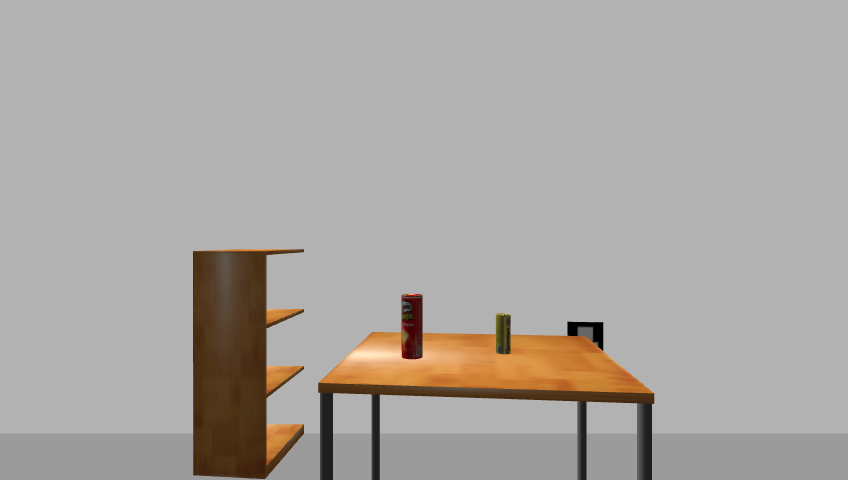aruco marker: (563, 320, 608, 354)
biscuits pack: (494, 312, 512, 356)
bookshelf: (188, 246, 311, 480)
dinner table: (313, 331, 662, 480)
pringles can: (399, 293, 423, 361)
